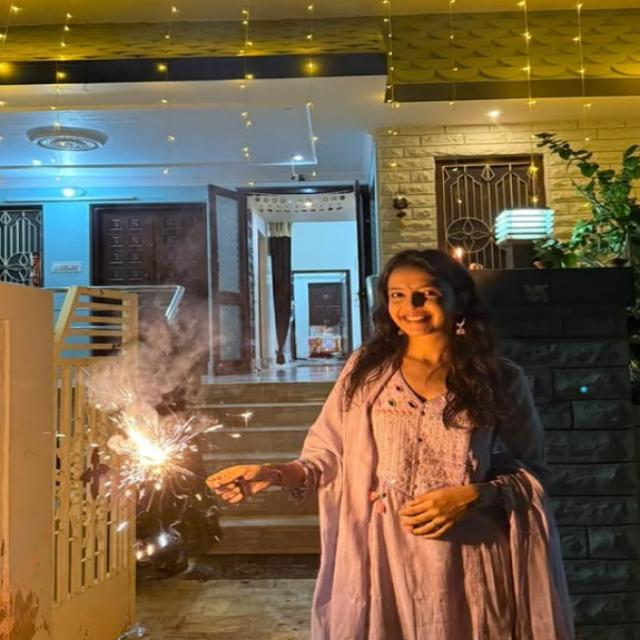fire: (109, 431, 187, 465)
